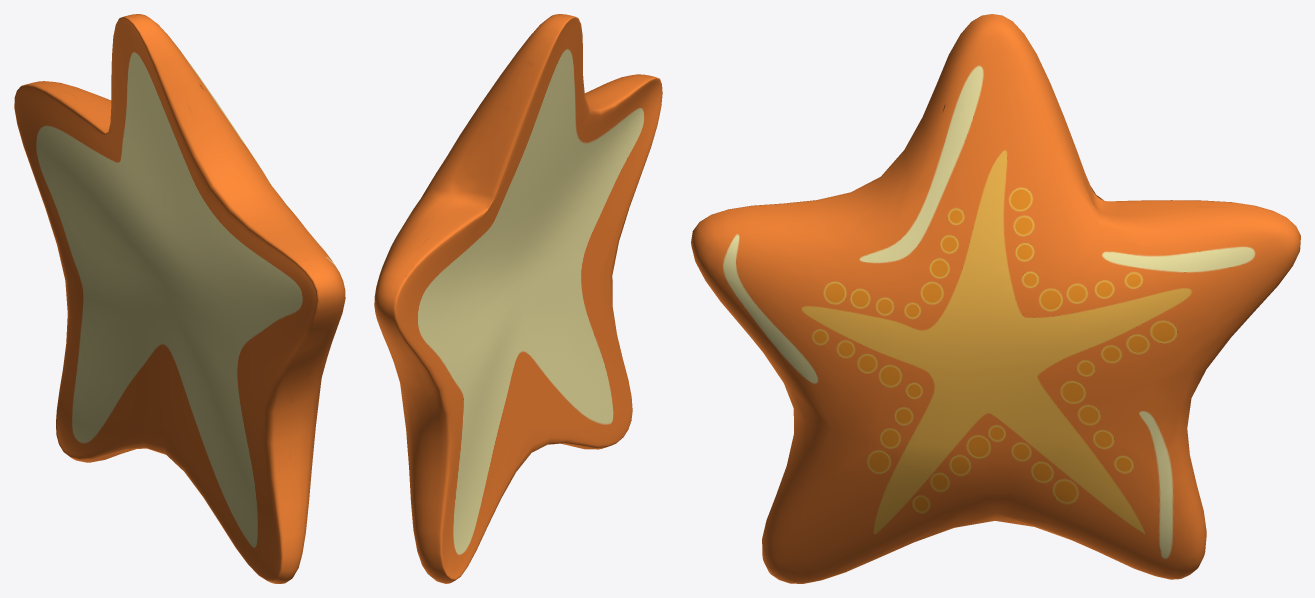
Rendered from Estrella.fbx.
3 views of the same model, side by side, from view 1: azimuth 30°, elevation 25°; view 2: azimuth 150°, elevation 25°; view 3: azimuth 270°, elevation 25° (orthographic). The views are drawn at different scales.
Parts seen in each view (by area): view 1: Estrella_Mar; view 2: Estrella_Mar; view 3: Estrella_Mar.
Part boxes in pixels (left/top/right/bottom): Estrella_Mar: left=14, top=14, right=345, bottom=583; Estrella_Mar: left=374, top=14, right=662, bottom=583; Estrella_Mar: left=691, top=14, right=1300, bottom=583.
Size of the model in its own units: 0.6999 by 2.57 by 2.61.
